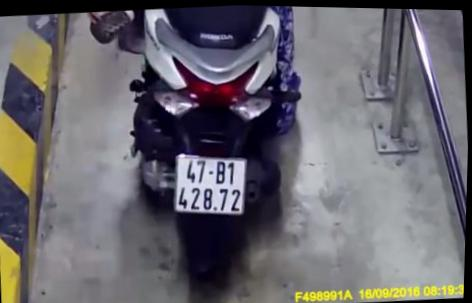LP: (170, 147, 253, 222)
